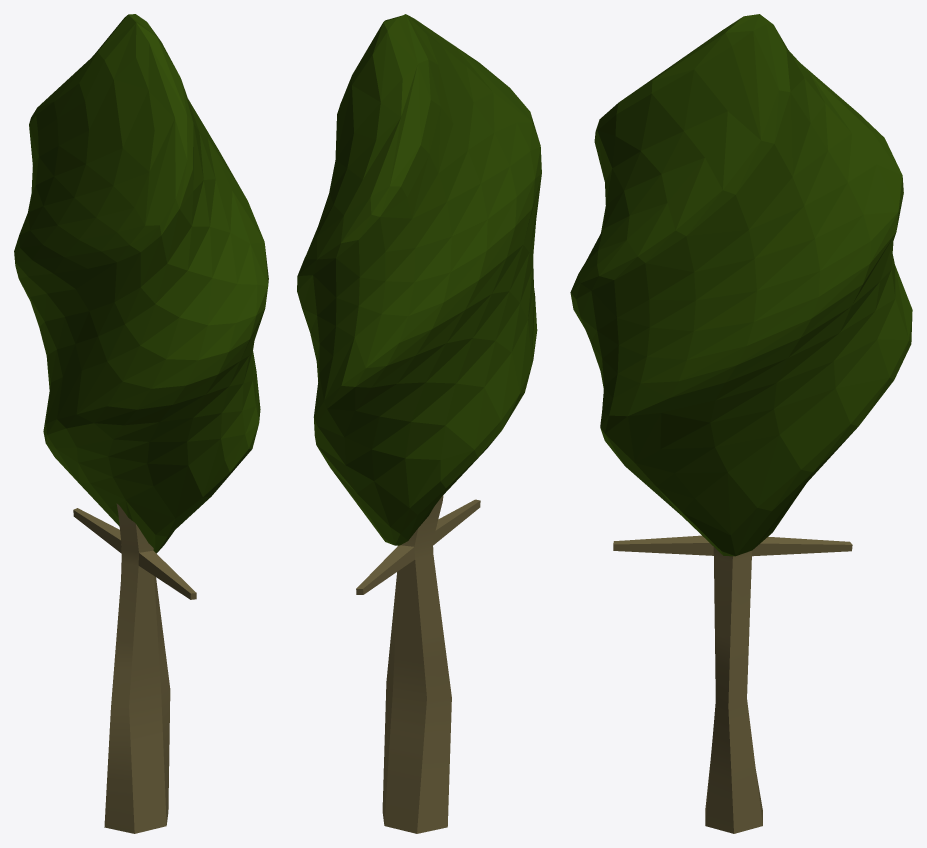
The model's file is tree_5.fbx.
3 renders of one model, left to right at view 1: azimuth 30°, elevation 25°; view 2: azimuth 150°, elevation 25°; view 3: azimuth 270°, elevation 25°, orthographic.
Parts seen in each view (by area): view 1: pCylinder7; view 2: pCylinder7; view 3: pCylinder7.
Part boxes in pixels (x1,y1,x2,y2): pCylinder7: [14, 14, 268, 833]; pCylinder7: [297, 14, 541, 833]; pCylinder7: [570, 14, 912, 833].
Bounding box in the file's own units: 1.47 × 6.21 × 2.39.
